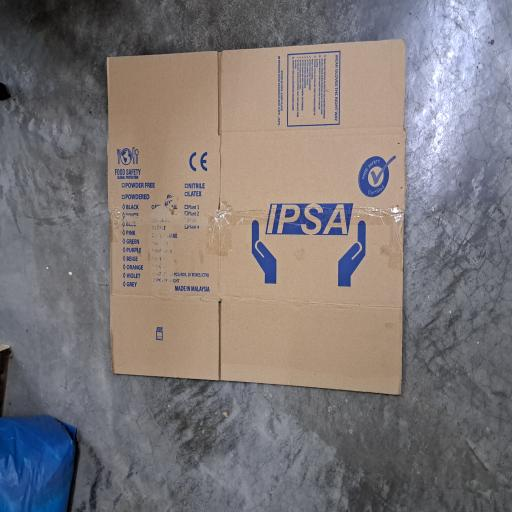cardboard: (89, 136, 363, 512)
plastic bag: (0, 0, 78, 110)
